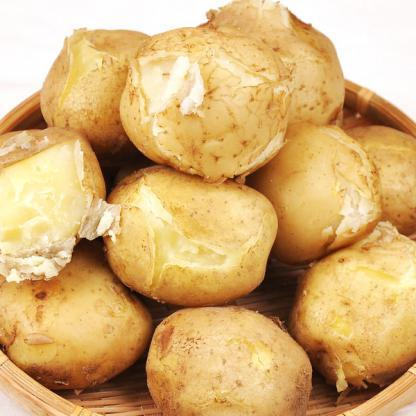potato: (126, 29, 300, 188), (0, 248, 172, 404), (98, 167, 276, 302), (140, 307, 322, 415), (252, 111, 381, 243), (42, 30, 180, 152), (297, 232, 415, 374), (0, 128, 118, 260)
